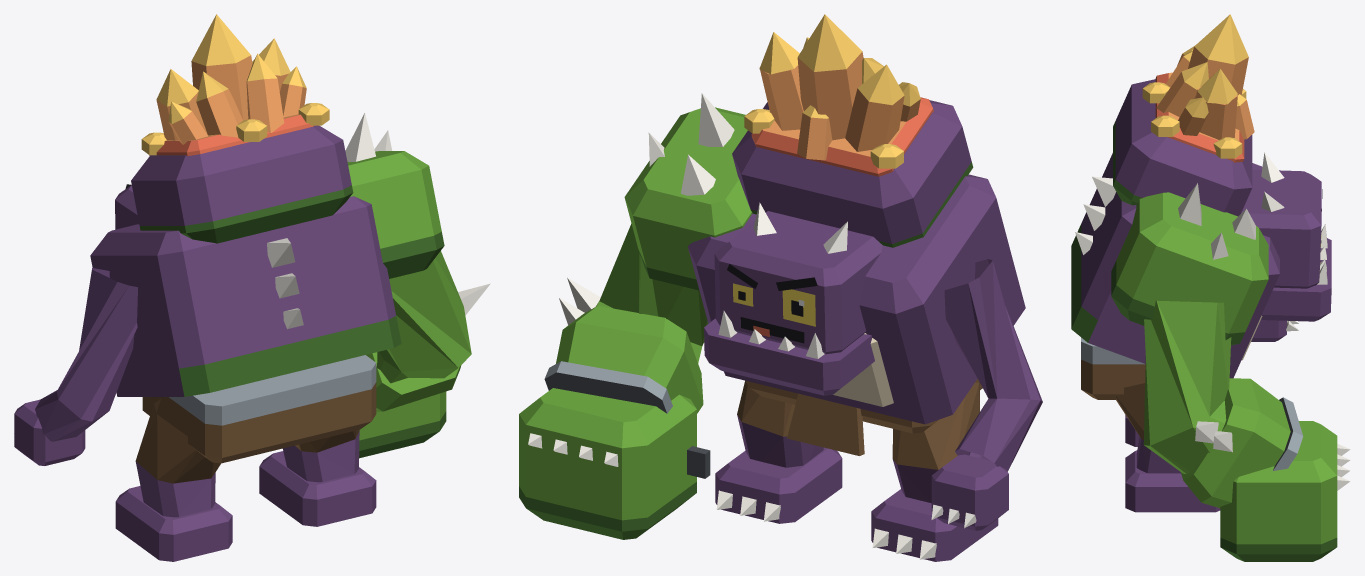
File: boss_mutant.glb
3 views of the same model, side by side, from view 1: azimuth 30°, elevation 25°; view 2: azimuth 150°, elevation 25°; view 3: azimuth 270°, elevation 25° (orthographic). The views are drawn at different scales.
Visible parts, largest first — view 1: boss_mutant, weakpoint; view 2: boss_mutant, weakpoint; view 3: boss_mutant, weakpoint.
Boxes of the visible parts, x1,y1,x2,y2 form: boss_mutant: (14,112,490,561); weakpoint: (141,14,329,156); boss_mutant: (519,93,1042,561); weakpoint: (744,14,933,176); boss_mutant: (1071,79,1350,561); weakpoint: (1142,14,1254,162).
Bounding box in the file's own units: 5.2 × 5.52 × 3.11.
2 materials, 2 textured.
